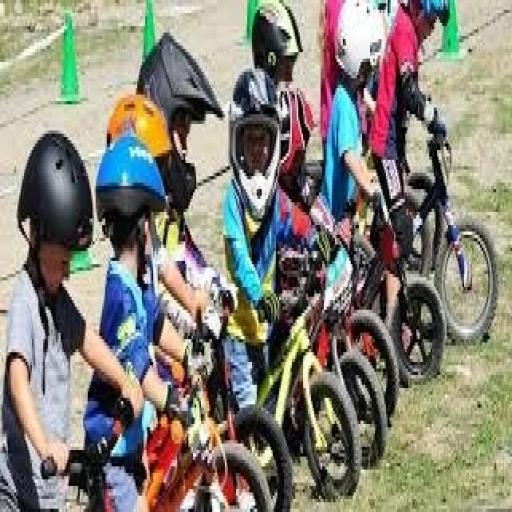cycling: (0, 127, 147, 509)
